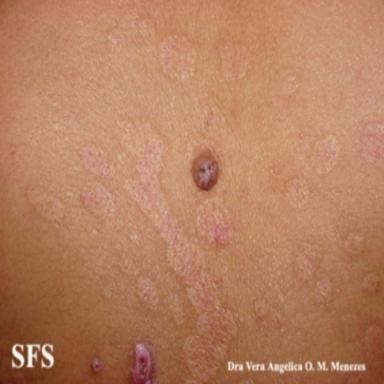Epidermolysis-Bullosa-Pruriginosa: (133, 343, 151, 383), (91, 357, 102, 373)
